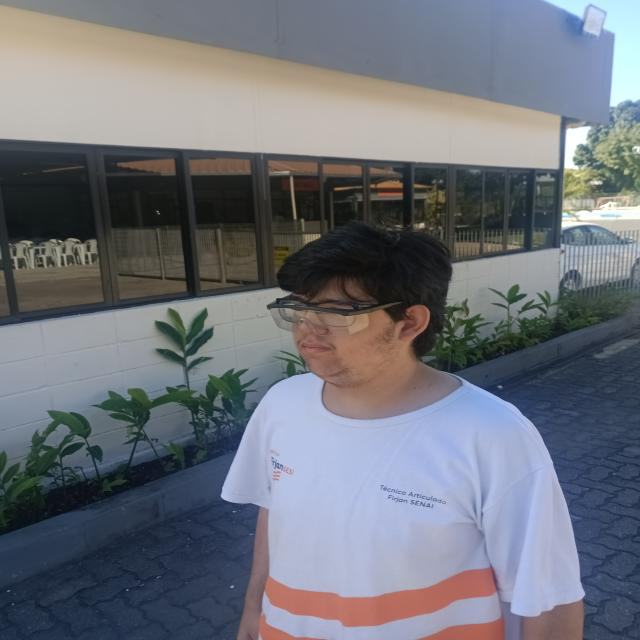oculos-epi: (268, 294, 403, 336)
